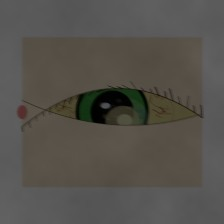corneal_ulcer: (94, 99, 150, 143)
